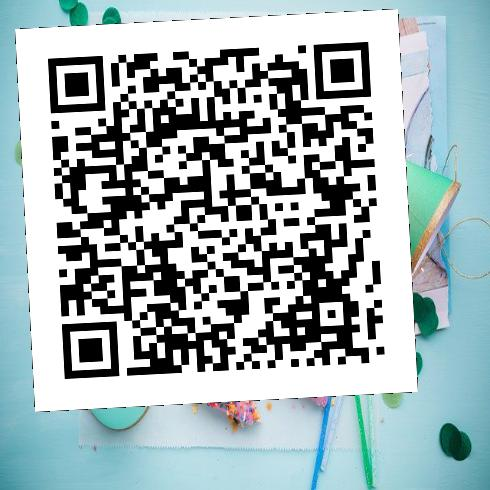qr_code: (15, 9, 417, 411)
